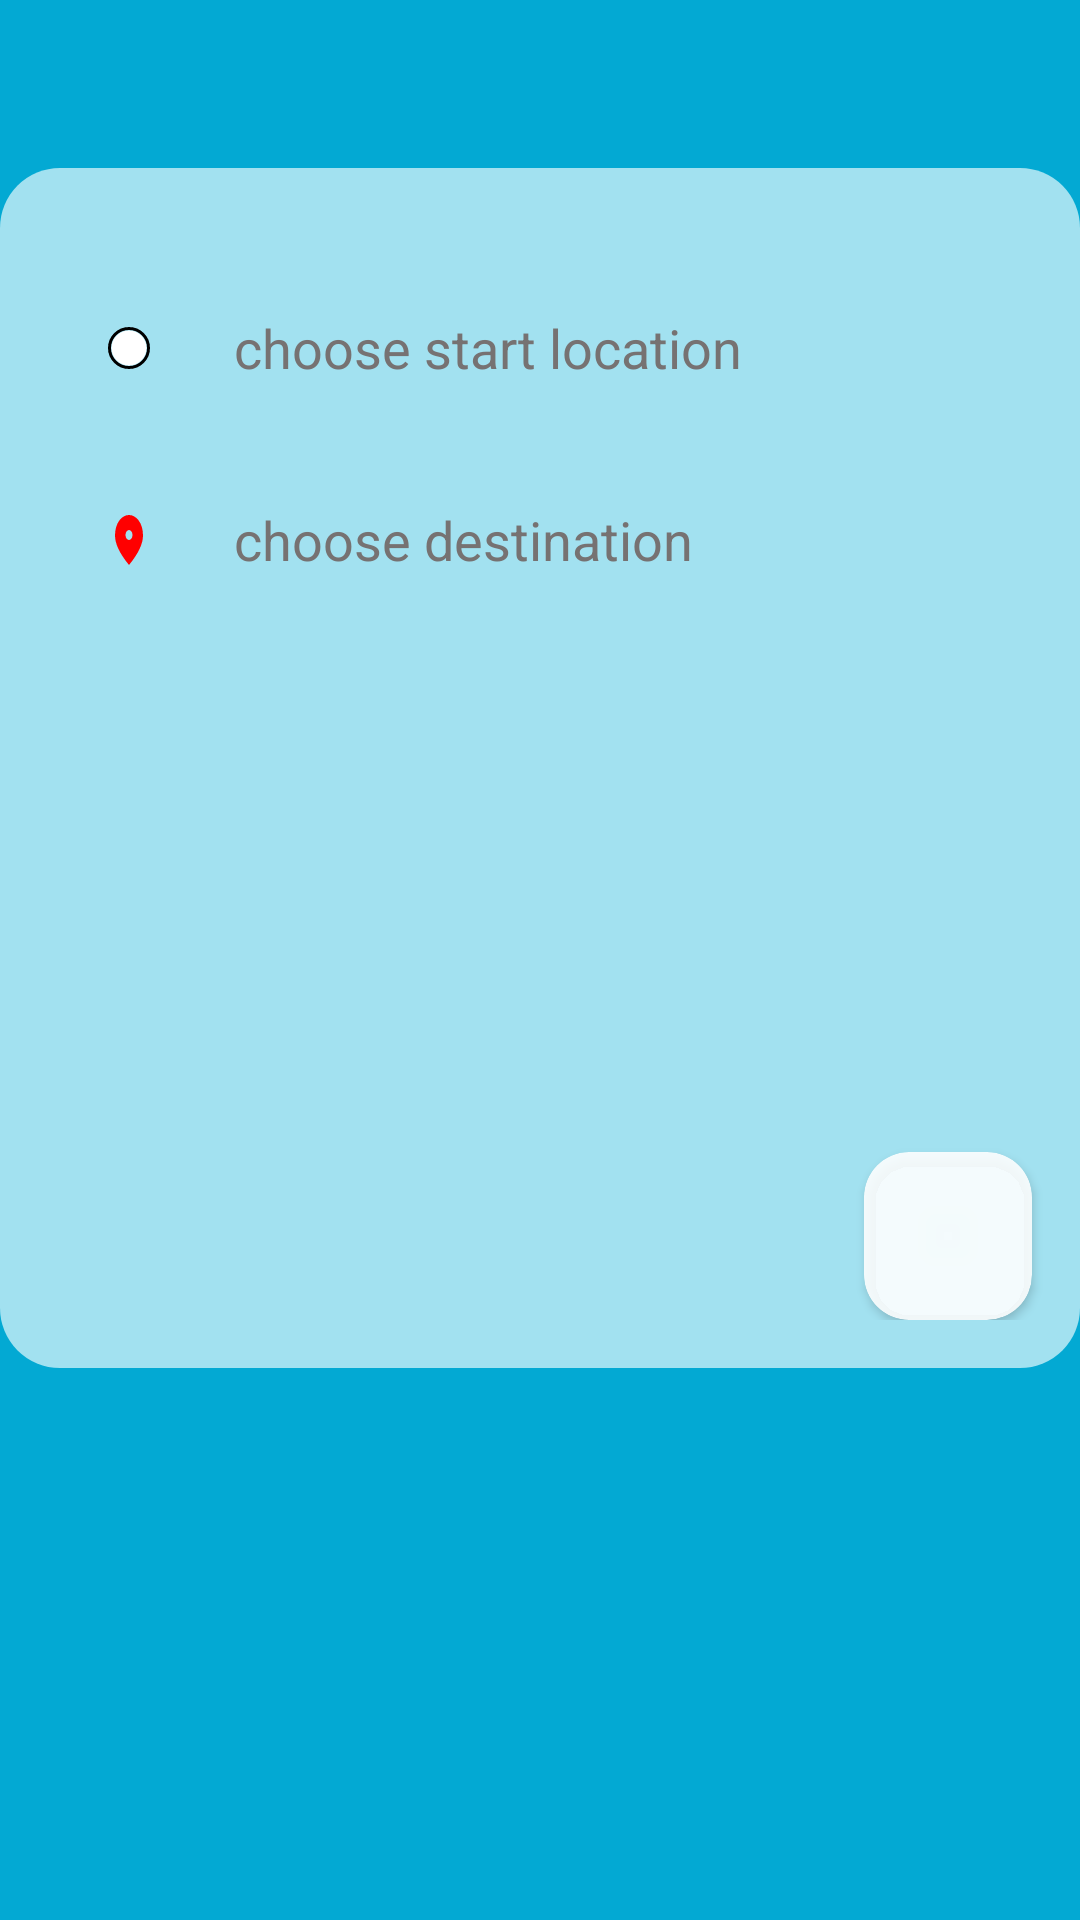

Icon click points for this 1080 × 1920 phone screenshot, format (x,y):
circle: (129,348)
marker: (129,540)
